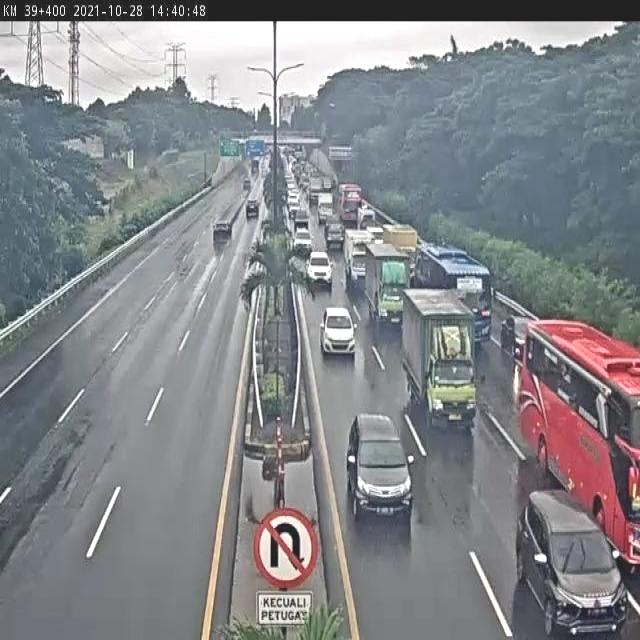Bus: (521, 318, 640, 560), (415, 240, 493, 350), (337, 182, 365, 228)
Car: (515, 489, 628, 638), (318, 304, 358, 362), (500, 313, 534, 356), (304, 252, 334, 289), (323, 221, 345, 250), (213, 214, 234, 243), (292, 229, 313, 255), (244, 196, 261, 218), (294, 210, 312, 230), (367, 227, 385, 245)
Truck: (401, 286, 479, 430), (365, 244, 409, 326), (384, 225, 418, 280), (344, 229, 375, 287), (317, 192, 334, 226)
Van: (346, 415, 414, 526)
